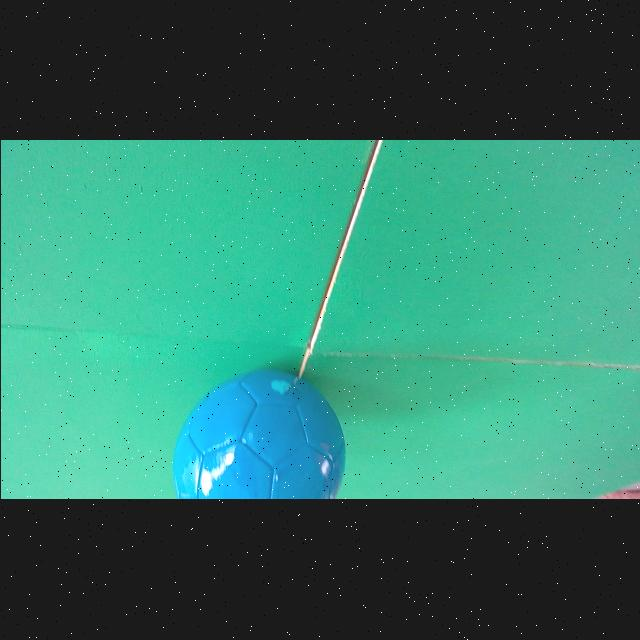B: (174, 371, 345, 500)
